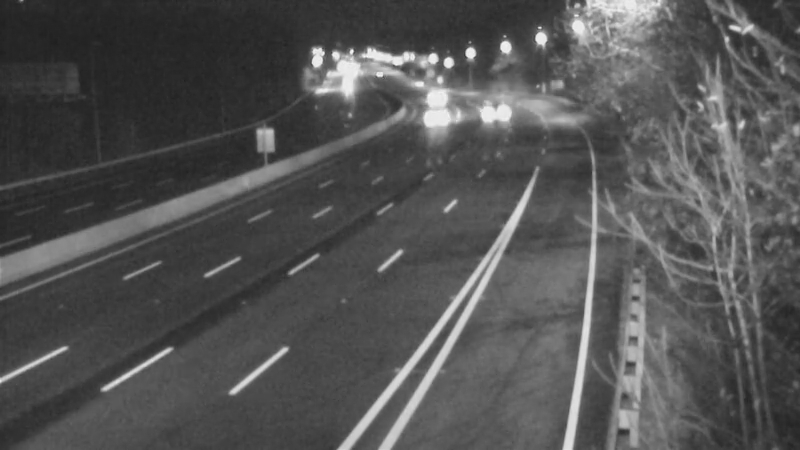vehicle: (411, 72, 461, 122), (466, 83, 516, 133), (411, 90, 461, 140)
